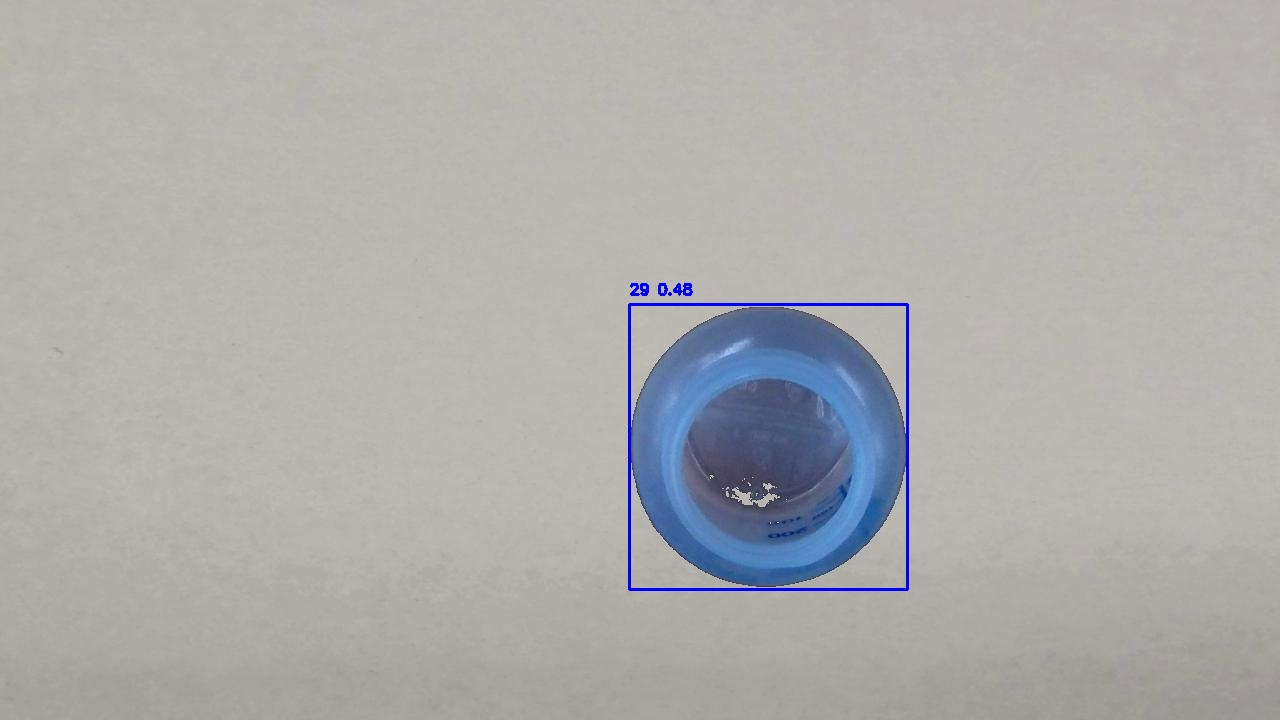cup: (629, 304, 907, 589)
